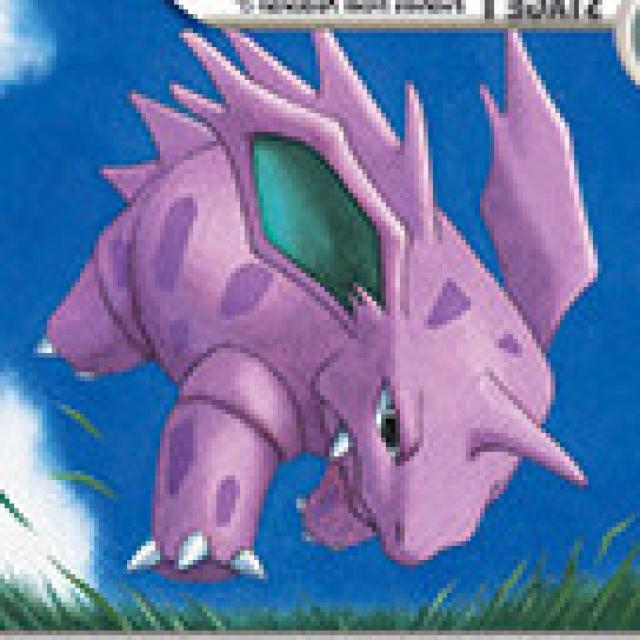Nidorino: (111, 43, 566, 574)
